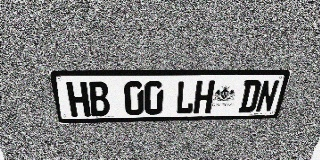0: (124, 81, 144, 116), (144, 81, 163, 115)
B: (87, 81, 110, 116)
D: (238, 80, 262, 113)
H: (66, 82, 91, 117), (193, 80, 215, 114)
L: (175, 81, 196, 114)
N: (255, 80, 280, 112)
